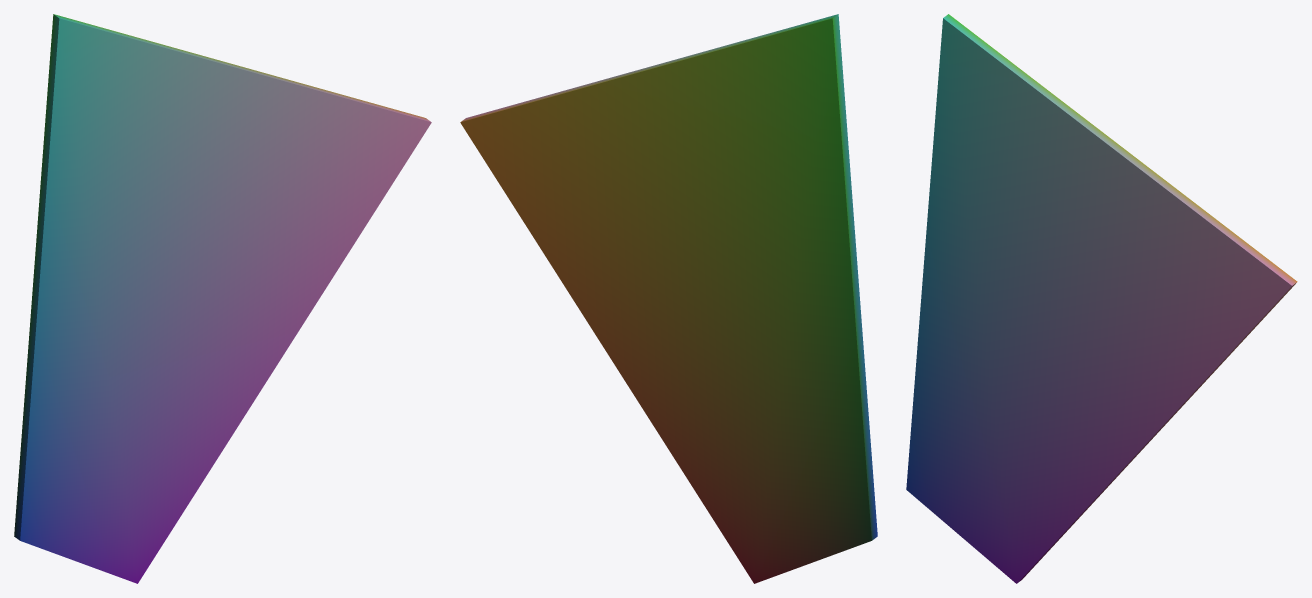
Rendered from zeometry-flat-shapes-flat-shard_v4.glb.
3 views of the same model, side by side, from view 1: azimuth 30°, elevation 25°; view 2: azimuth 150°, elevation 25°; view 3: azimuth 330°, elevation 25° (orthographic). The views are drawn at different scales.
Visible parts, largest first — view 1: Flat Shard_v4; view 2: Flat Shard_v4; view 3: Flat Shard_v4.
Boxes of the visible parts, x1,y1,x2,y2 form: Flat Shard_v4: (14, 14, 431, 583); Flat Shard_v4: (460, 14, 877, 583); Flat Shard_v4: (906, 14, 1297, 583).
Size of the model in its own units: 0.3684 by 0.5 by 0.00929.
